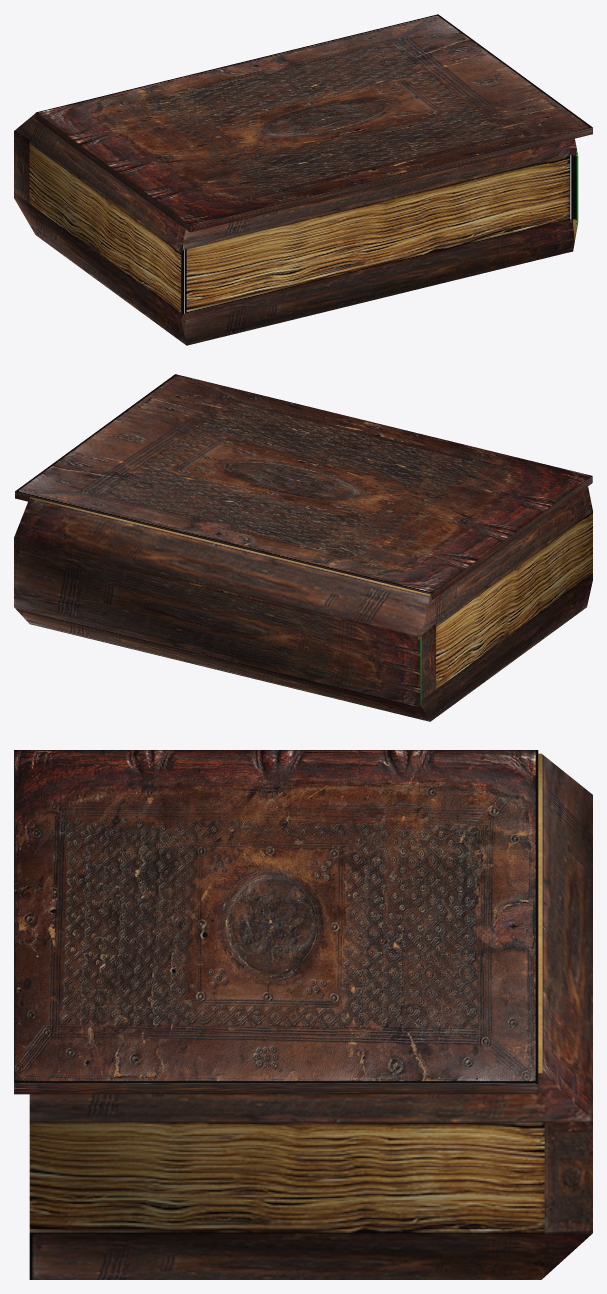
The model's file is BookAnimation.FBX.
The picture shows the model from 3 angles, top to bottom: view 1: azimuth 30°, elevation 25°; view 2: azimuth 150°, elevation 25°; view 3: azimuth 270°, elevation 25°; orthographic projection. The views are drawn at different scales.
Visible parts, largest first — view 1: Box001, ChamferBox001; view 2: ChamferBox001, Box001; view 3: Box001, ChamferBox001.
Part boxes in pixels (x1,y1,x2,y2): Box001: (35,14,592,232); ChamferBox001: (14,113,578,345); ChamferBox001: (14,486,592,721); Box001: (15,374,592,599); Box001: (14,750,538,1094); ChamferBox001: (29,753,592,1279).
Size of the model in its own units: 711 by 206 by 515.
Materials: 2 (2 with a texture image).
